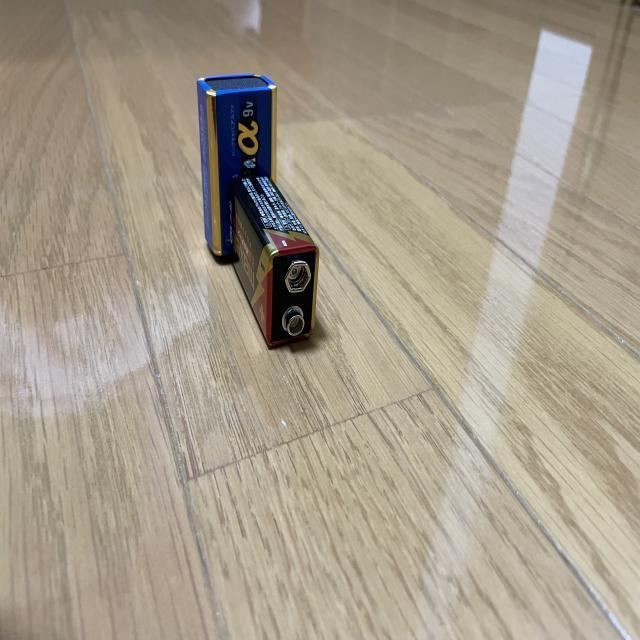9V: (231, 172, 321, 346), (197, 72, 278, 260)
